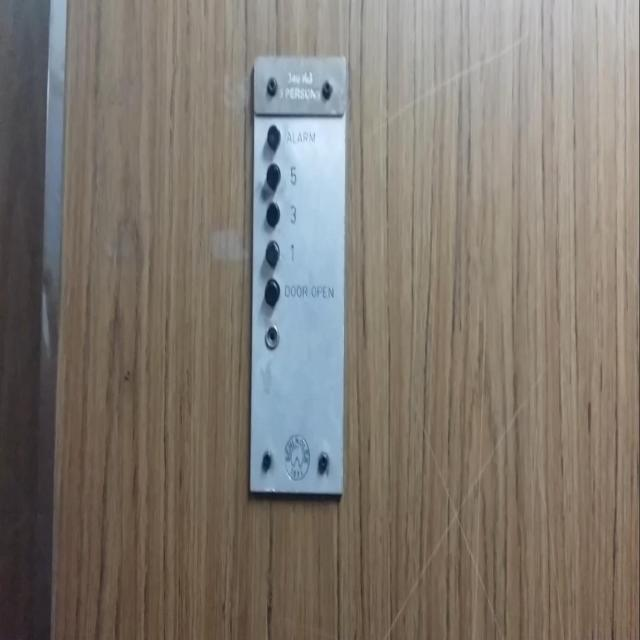empty: (264, 276, 280, 306), (265, 199, 280, 228), (266, 122, 280, 152), (266, 162, 280, 189), (264, 240, 278, 265)
indicator: (264, 322, 279, 350)
